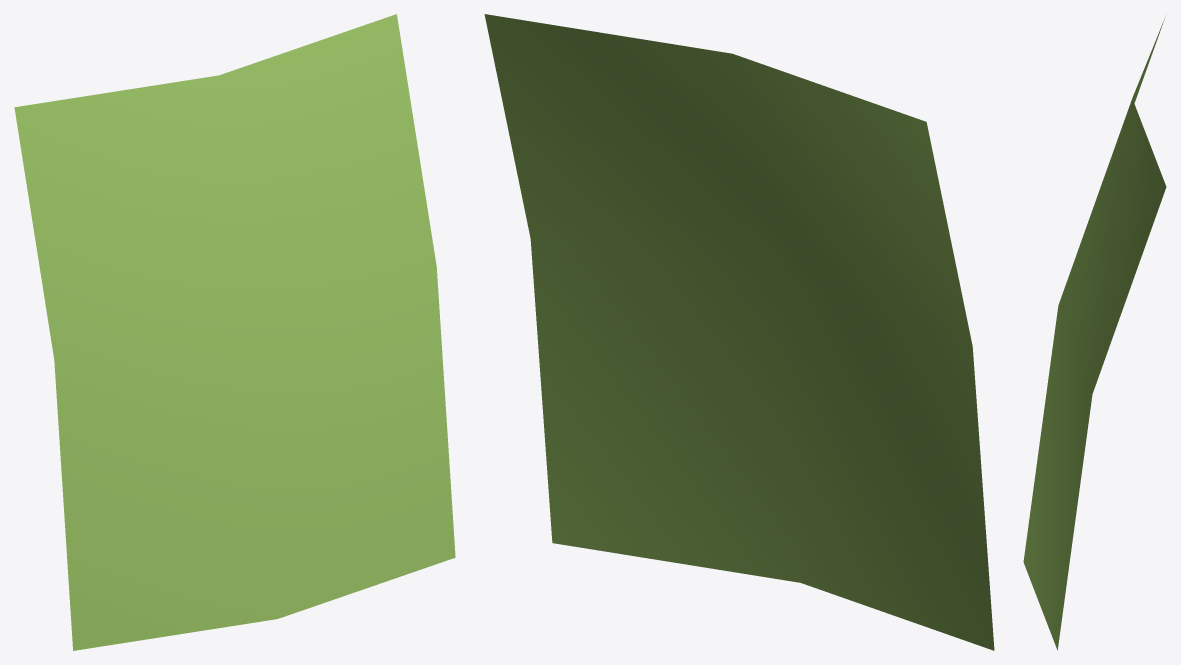
Rendered from GrassPlane_a_OneS_03.fbx.
The picture shows the model from 3 angles, left to right: view 1: azimuth 30°, elevation 25°; view 2: azimuth 150°, elevation 25°; view 3: azimuth 270°, elevation 25°; orthographic projection. The views are drawn at different scales.
Visible parts, largest first — view 1: GrassPlane_a_OneS_03; view 2: GrassPlane_a_OneS_03; view 3: GrassPlane_a_OneS_03.
Boxes of the visible parts, box(x1,y1,x2,y2) form: GrassPlane_a_OneS_03: box(14, 14, 455, 650); GrassPlane_a_OneS_03: box(484, 14, 994, 650); GrassPlane_a_OneS_03: box(1023, 18, 1166, 650).
Bounding box in the file's own units: 48.83 × 61.09 × 17.06.
